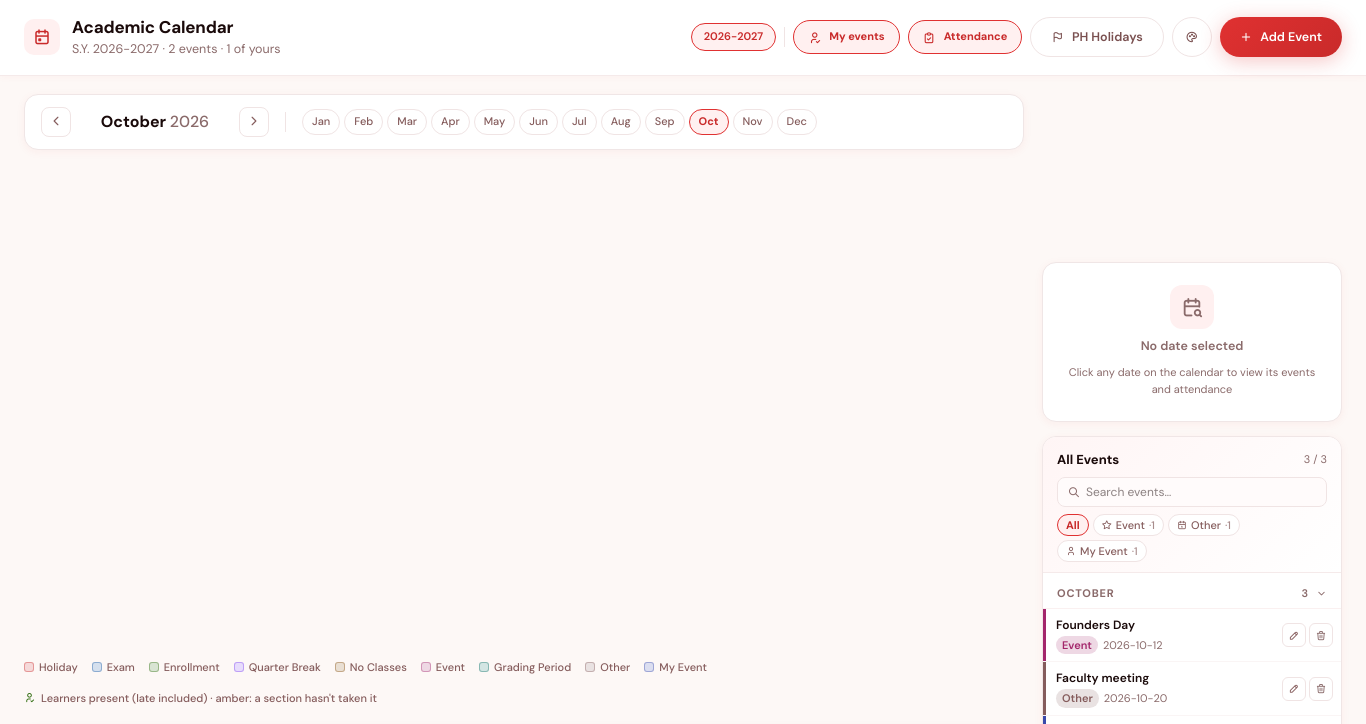
an admin or the registrar › chooses which calendar a new event goes on
This screenshot has width=1366, height=724.
Click the button "Add Event". click: (1281, 37)
box: [1220, 17, 1342, 57]
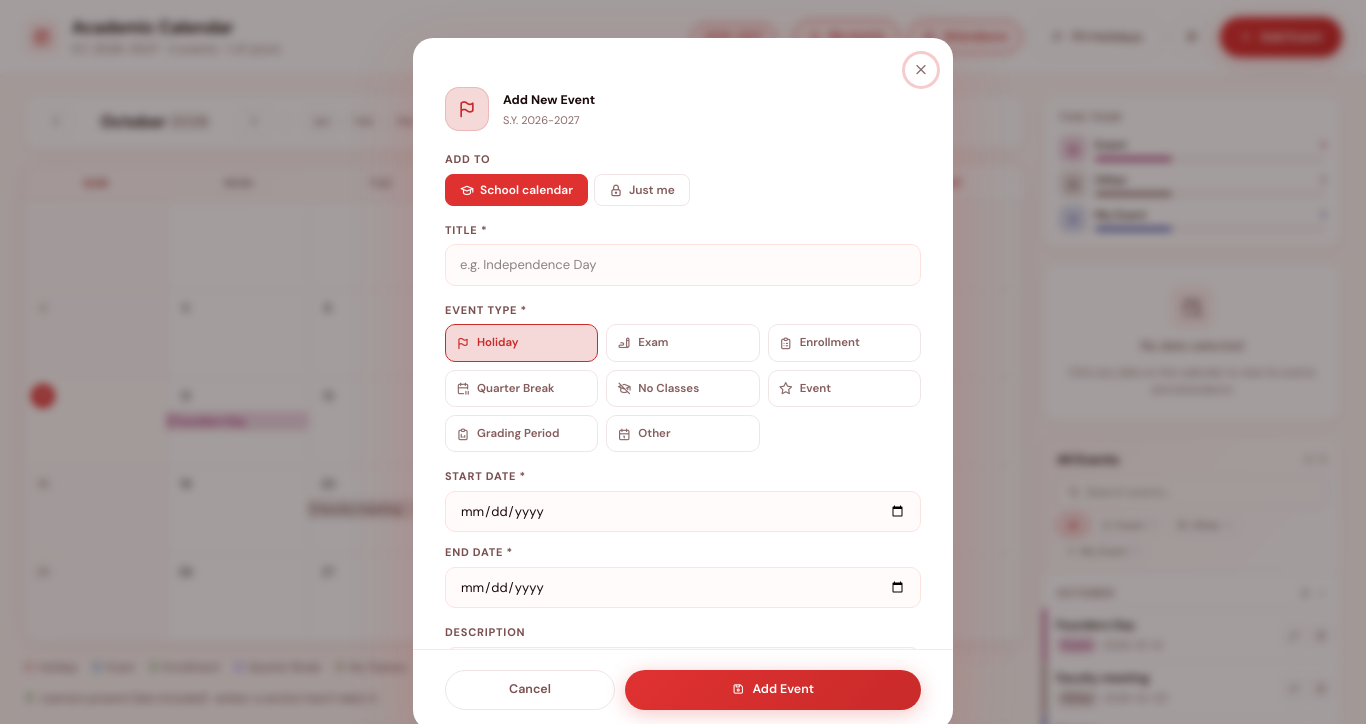
Check: the heading "Add New Event" is shown, box [503, 92, 595, 108]
Check: the text "Event Type *" is shown, box [445, 303, 527, 317]
Click the button "Just me". click: (642, 190)
box: [594, 174, 690, 206]
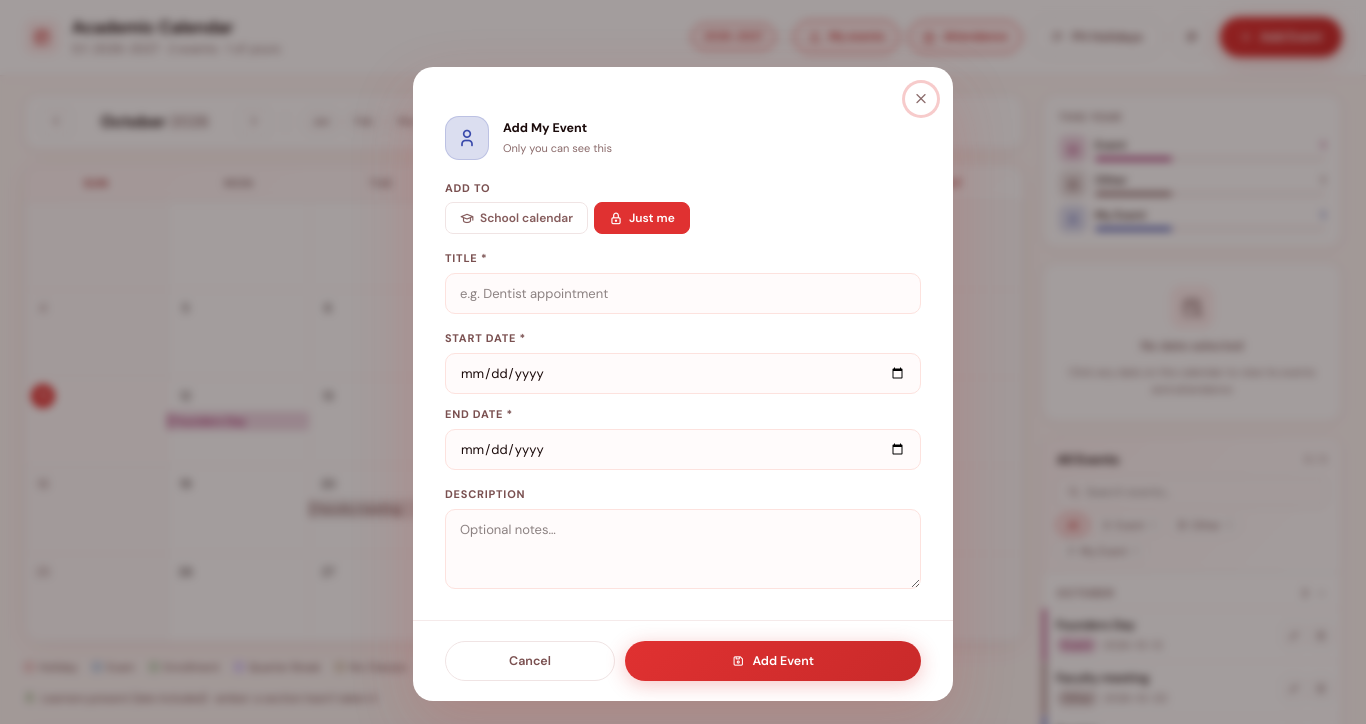
Check: the text "Show on the guardian portal" is not shown
Check: the heading "Add My Event" is shown, box [503, 120, 587, 136]
Check: the text "Event Type *" is gone
